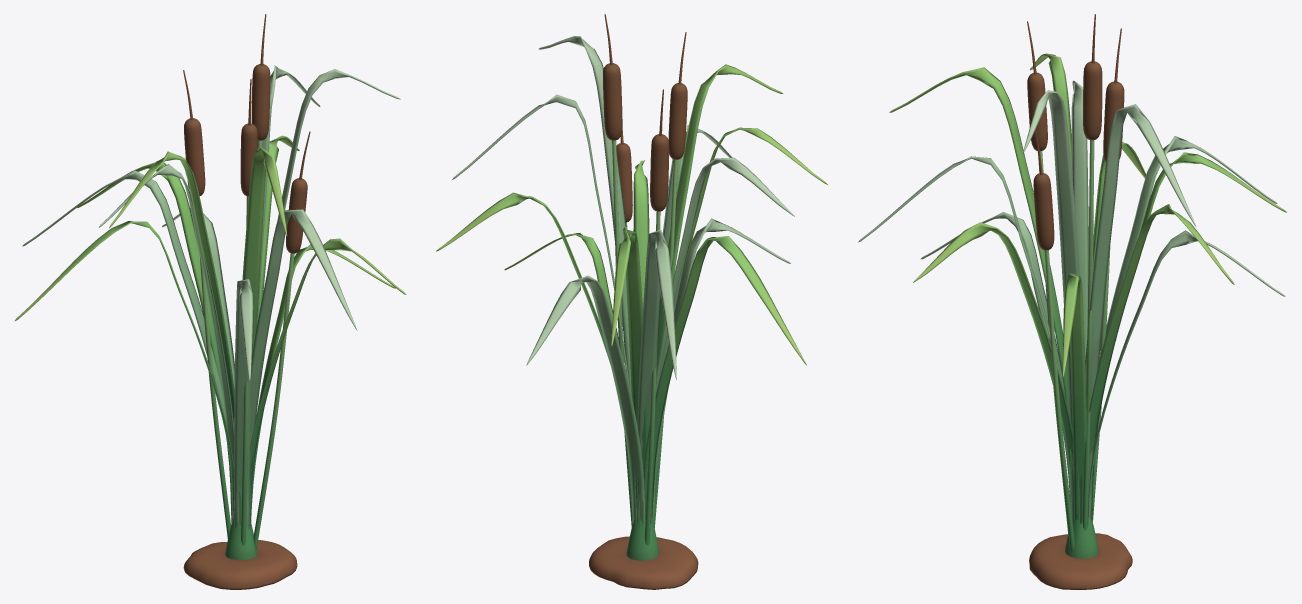
Rendered from cattail.glb.
3 renders of one model, left to right at view 1: azimuth 30°, elevation 25°; view 2: azimuth 150°, elevation 25°; view 3: azimuth 270°, elevation 25°, orthographic. The views are drawn at different scales.
Visible parts, largest first — view 1: cattail_body; view 2: cattail_body; view 3: cattail_body.
Boxes of the visible parts, left/top/right/bottom form: cattail_body: left=14, top=14, right=406, bottom=589; cattail_body: left=436, top=14, right=827, bottom=589; cattail_body: left=858, top=14, right=1286, bottom=589.
Size of the model in its own units: 1 by 1.52 by 1.04.
Materials: 1 (1 with a texture image).
